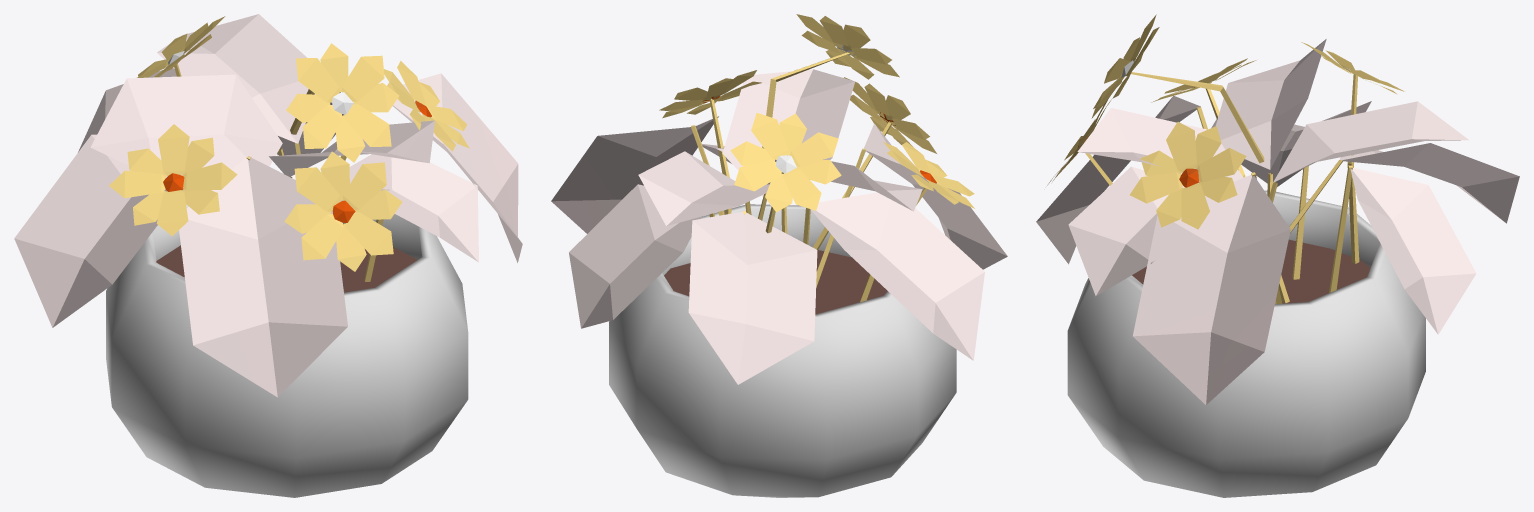
The model's file is Pot3.fbx.
3 views of the same model, side by side, from view 1: azimuth 30°, elevation 25°; view 2: azimuth 150°, elevation 25°; view 3: azimuth 270°, elevation 25° (orthographic). The views are drawn at different scales.
Visible parts, largest first — view 1: Pot3; view 2: Pot3; view 3: Pot3.
Part boxes in pixels (<box>): Pot3: <box>14,14,522,497</box>; Pot3: <box>551,14,1007,497</box>; Pot3: <box>1036,14,1519,497</box>.
Size of the model in its own units: 17.46 by 16.42 by 16.44.
